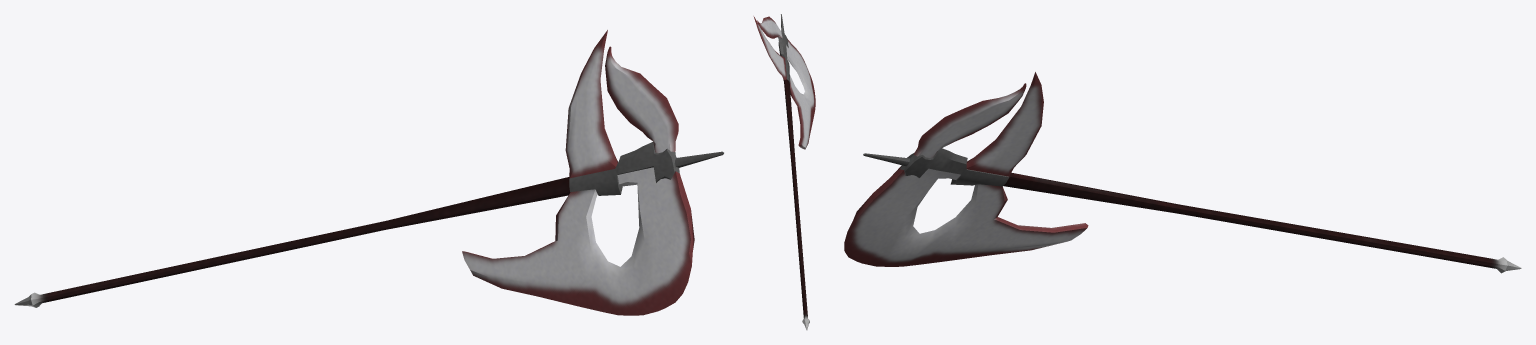
The model's file is scythe.fbx.
The picture shows the model from 3 angles, left to right: view 1: azimuth 30°, elevation 25°; view 2: azimuth 150°, elevation 25°; view 3: azimuth 270°, elevation 25°; orthographic projection. The views are drawn at different scales.
Visible parts, largest first — view 1: scythe; view 2: scythe; view 3: scythe.
Part boxes in pixels (x1,y1,x2,y2): scythe: (14,30,723,315); scythe: (753,14,815,330); scythe: (844,72,1521,273).
Size of the model in its own units: 601 by 555 by 926.
